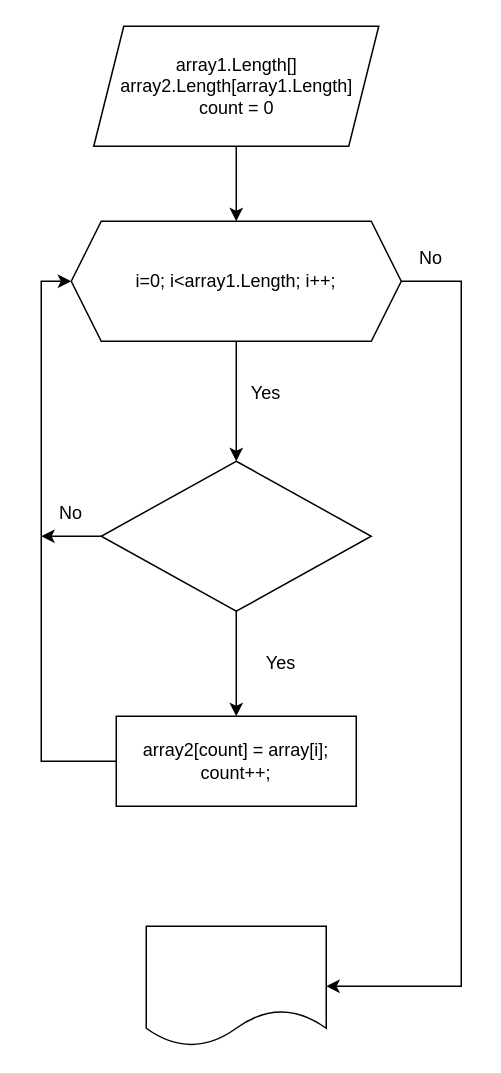
The diagram is 501 pixels wide and 1073 high, and some of its shapes have lost their labels. Here are the shapes that lost their labels. From the top down, the centre of each, then its label:
At point (235, 535): "if array1[i].Length<=3".
At point (235, 985): "PrintArray1 PrintArray2".
